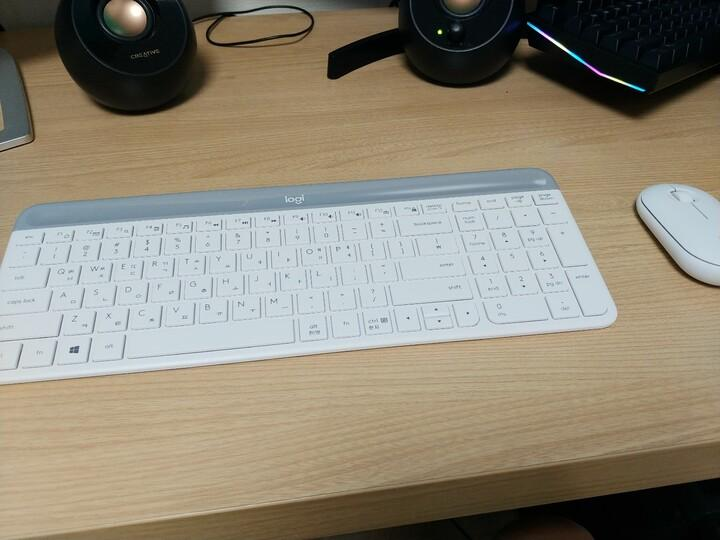keyboard: (0, 166, 618, 385), (525, 0, 720, 96)
mouse: (634, 181, 719, 287)
